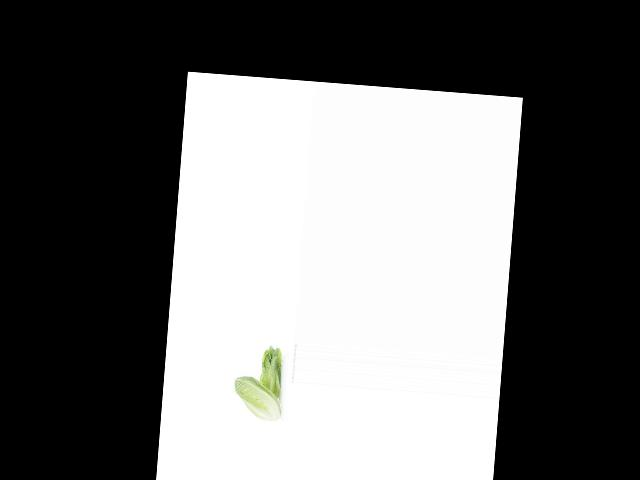lettuce: (253, 345, 290, 398)
